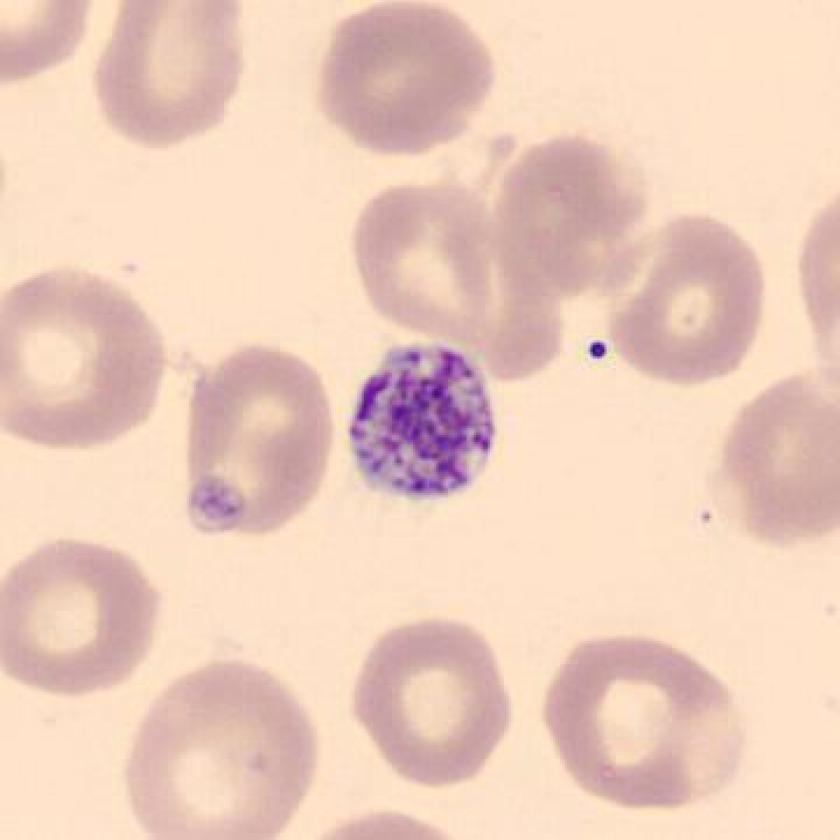platelets: (330, 334, 517, 517)
